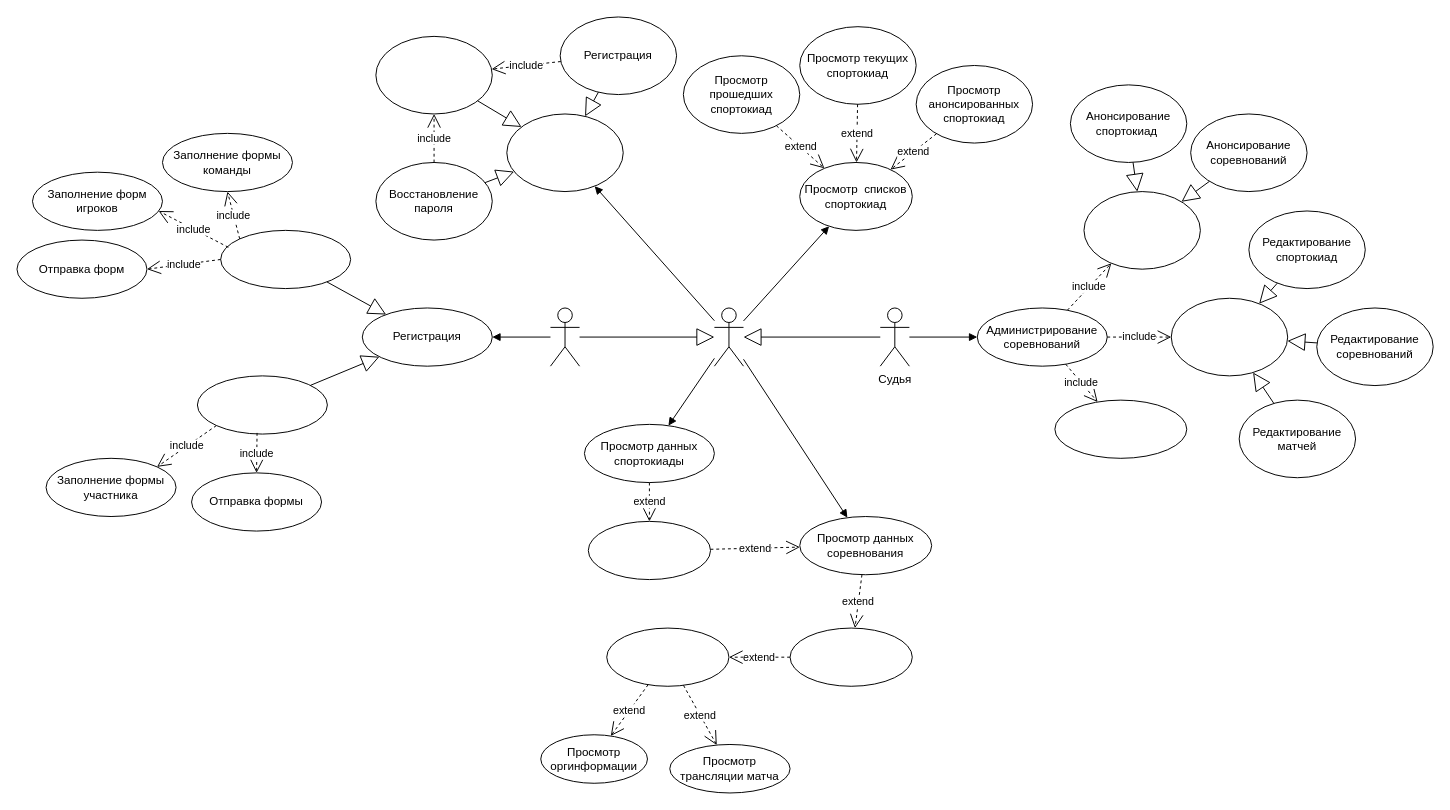
The diagram is 1450 pixels wide and 810 high, and some of its shapes have lost their labels. Each missing label, with the centre of its shape:
"Авторизация" belongs at point 433,74.
"Анонсирование" belongs at point 1141,230.
"Ведение трансляций матчей" belongs at point 1120,428.
"Зритель" belongs at point 728,336.
"Получение прав доступа" belongs at point 564,152.
"Просмотр списка входящих матчей" belongs at point 850,656.
"Просмотр списка входящих соревнований" belongs at point 649,550.
"Просмотр страницы матча" belongs at point 667,656.
"Регистрация на соревнование" belongs at point 285,259.
"Регистрация на спортокиаду" belongs at point 261,404.
"Редактирование" belongs at point 1229,336.
"Участник соревнований" belongs at point 565,336.
